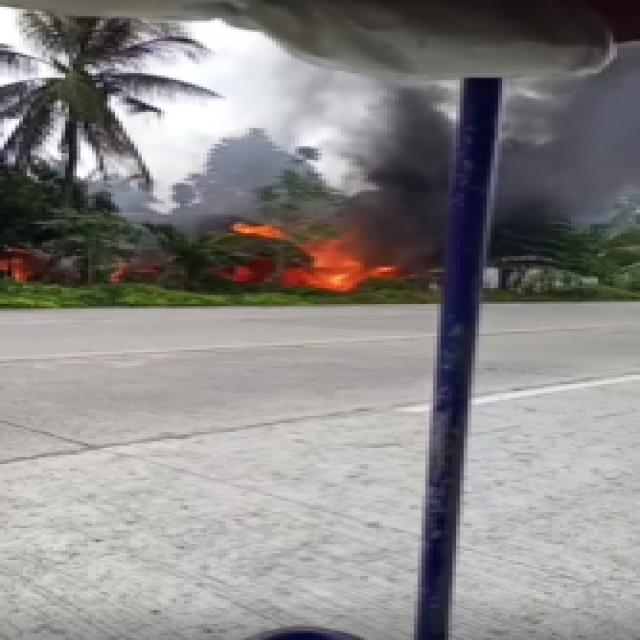Fire: (220, 217, 414, 297)
Smoke: (266, 82, 455, 235), (510, 81, 640, 252), (100, 177, 276, 270)
